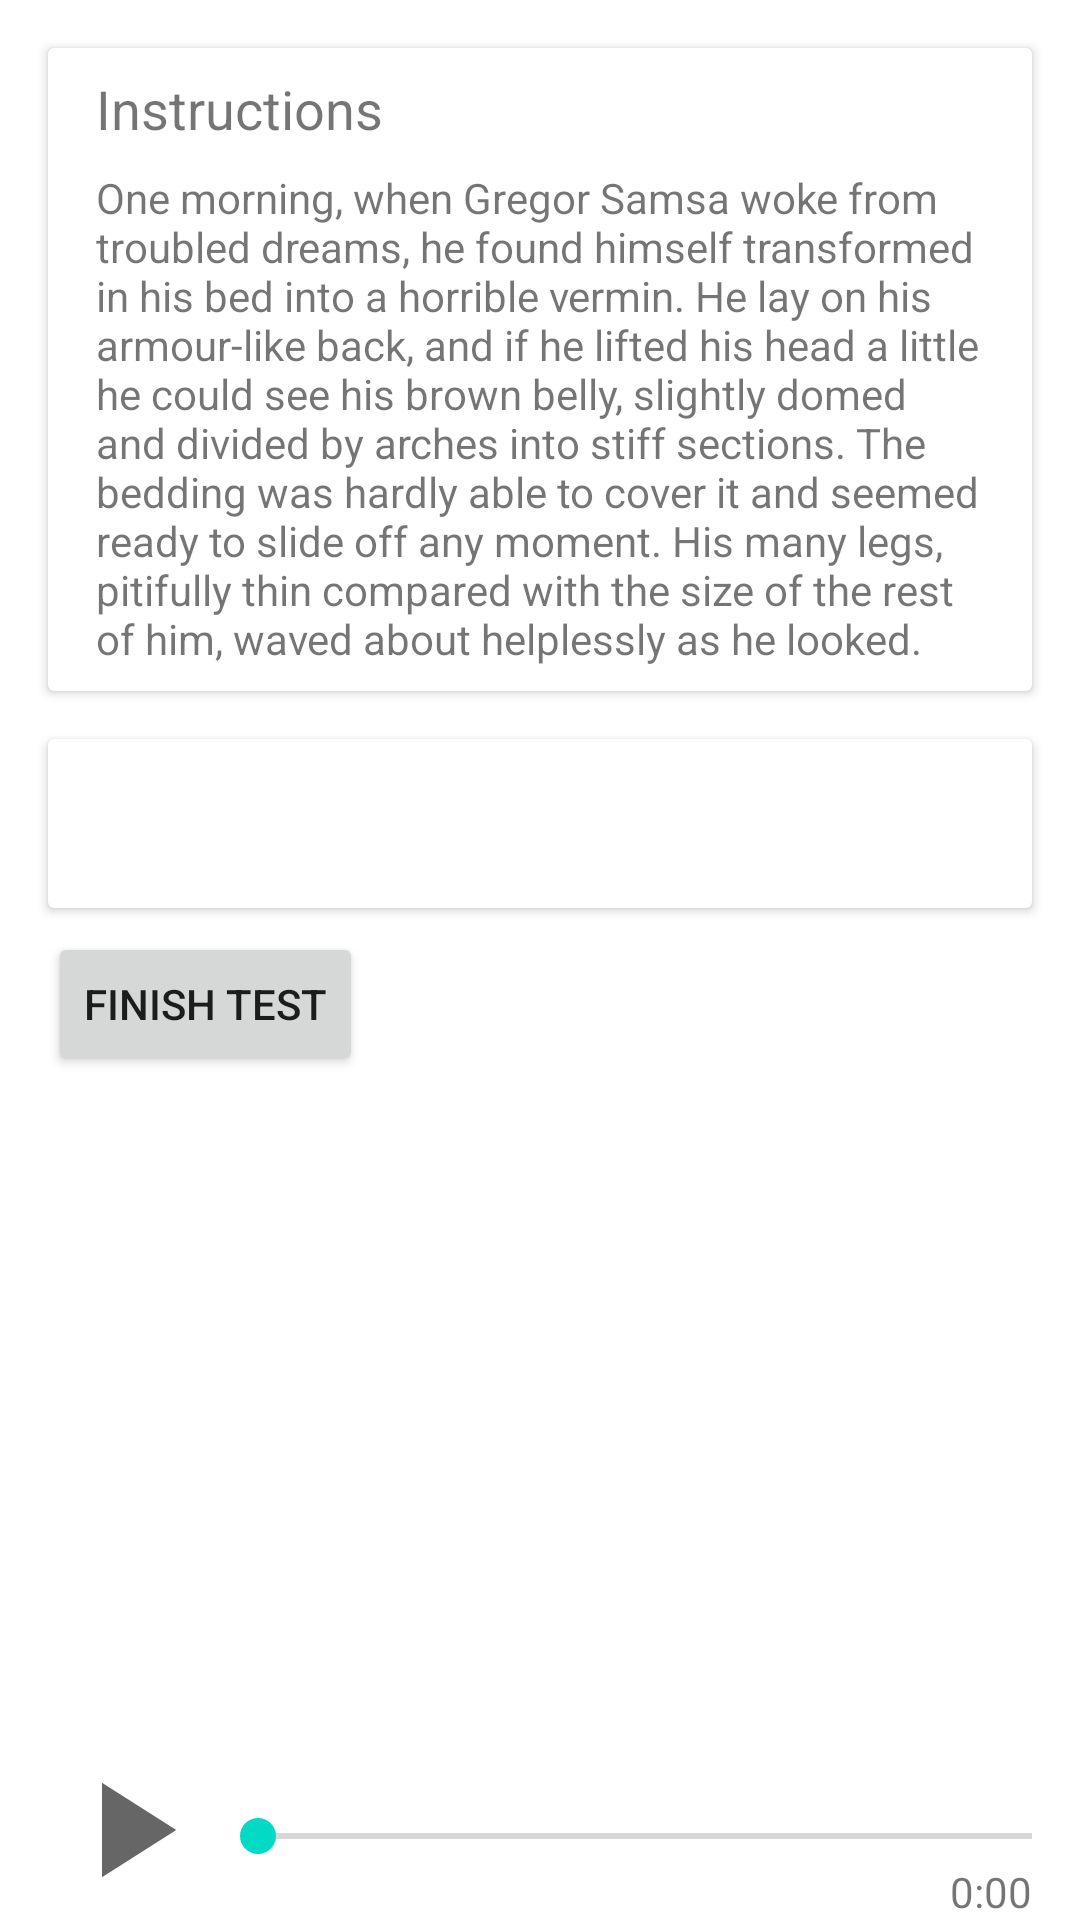

Named icons in this screenshot (1080x1920) and their centers, (x=x, y=y):
Mediaplayer play/pause button: (x=139, y=1830)
